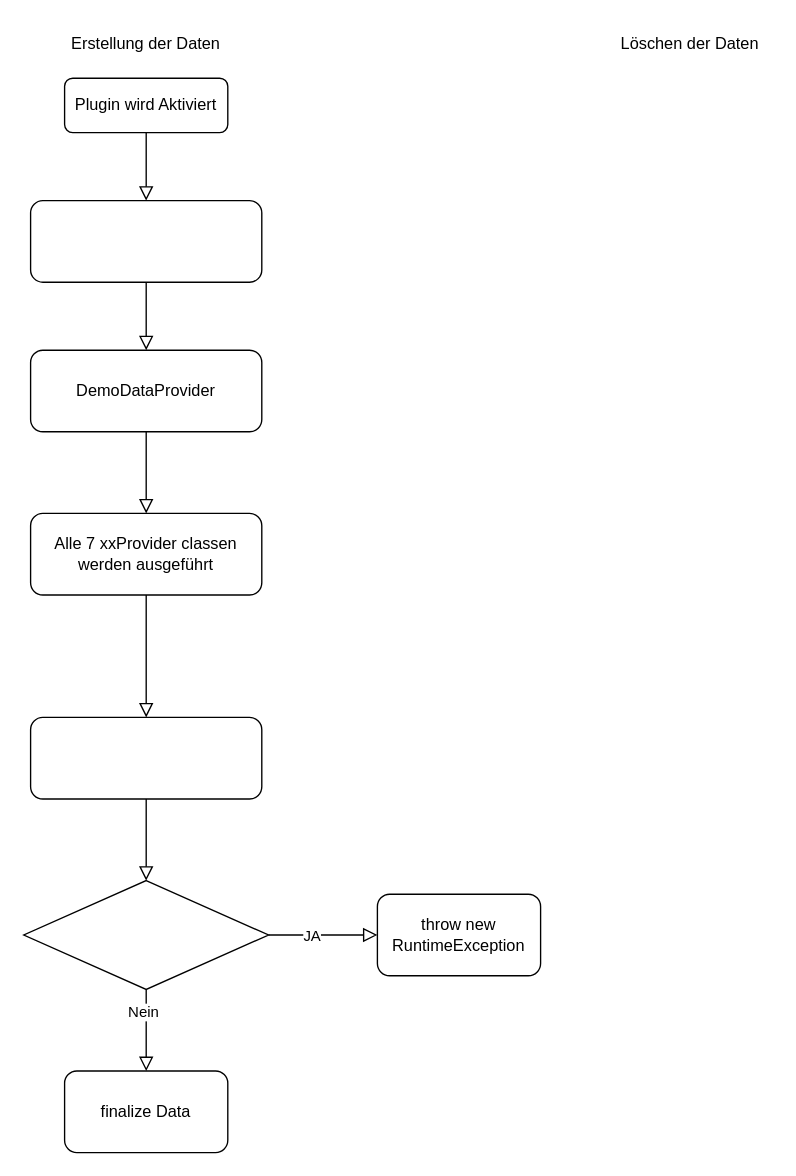
The diagram is 796 pixels wide and 1176 high, and some of its shapes have lost their labels. The shapes that lost their labels are listed below. From the top down, each one's box as (x1, y1, x2, y2) in pixels, then its label:
(29, 199, 262, 282): DemoDataService fürt die Function generate aus
(29, 716, 262, 799): Per Sync API werden die Daten gespeichert
(22, 879, 269, 989): respons status >= 400
